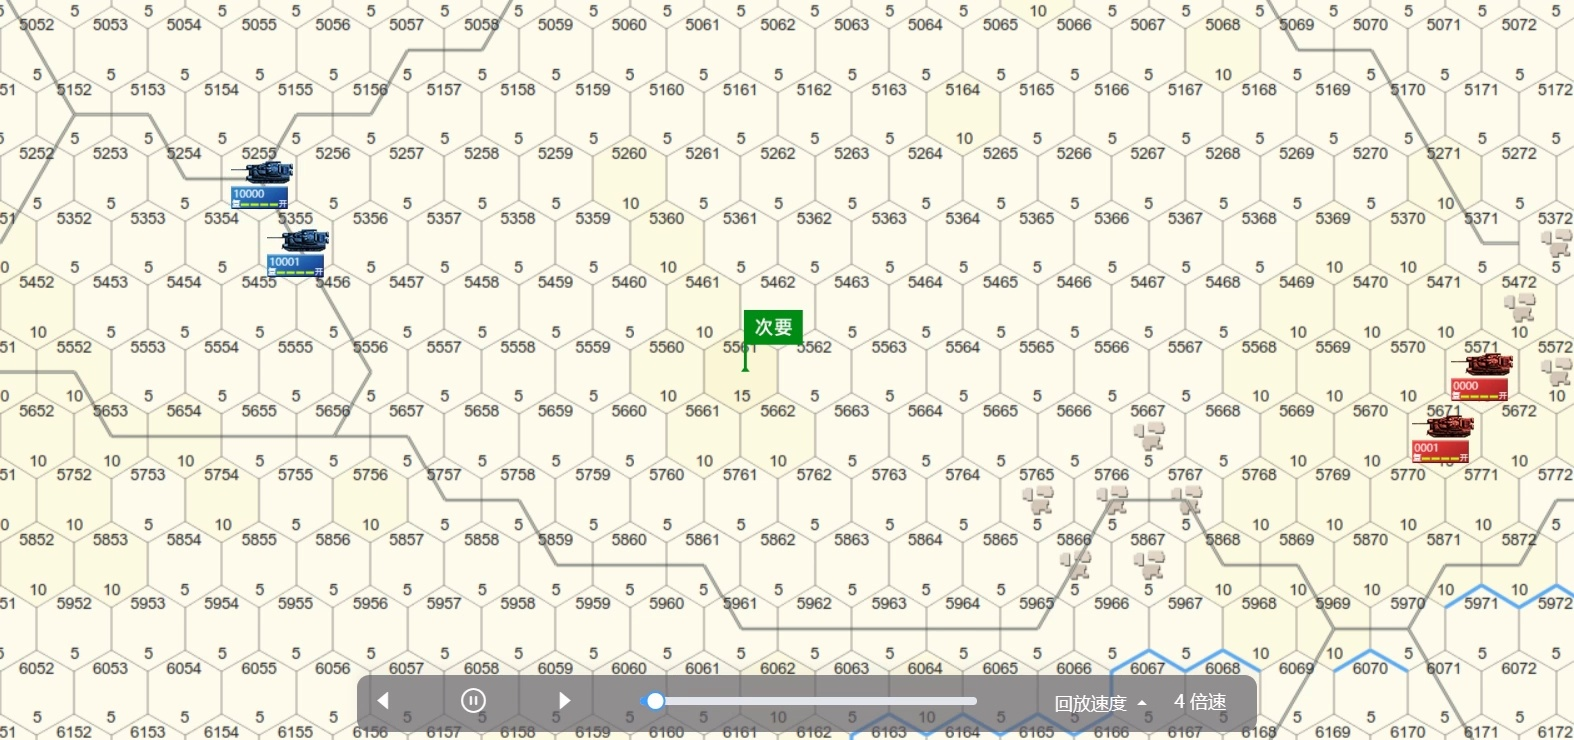blue_tank: (270, 233, 329, 277), (239, 160, 290, 206)
red_tank: (1416, 412, 1477, 463), (1450, 353, 1514, 401)
